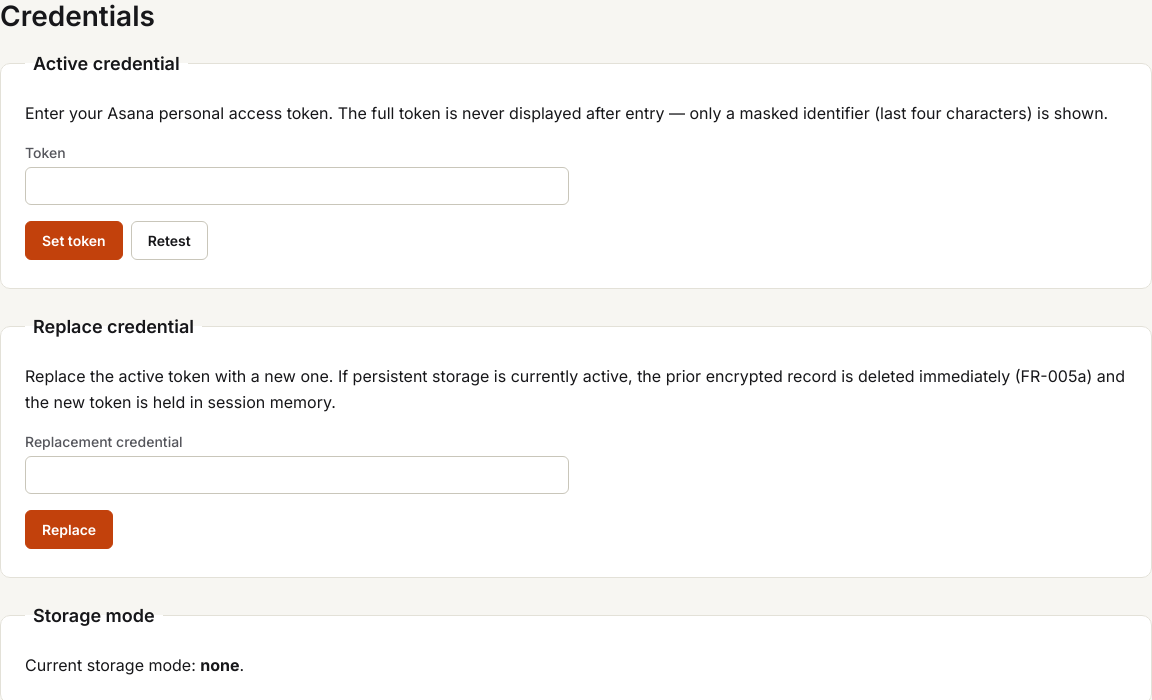
it: T037 Settings credentials panel (US1 acceptance scenario 6) › Retest action (FR-004) › displays a 'token valid' outcome when the fixture round-trip succeeds
The width and height of the screenshot is (1152, 700).
In the password field labelled "Token": (297, 186) [25,167,569,205], type "fixture-session-token-aaaaaaaa"
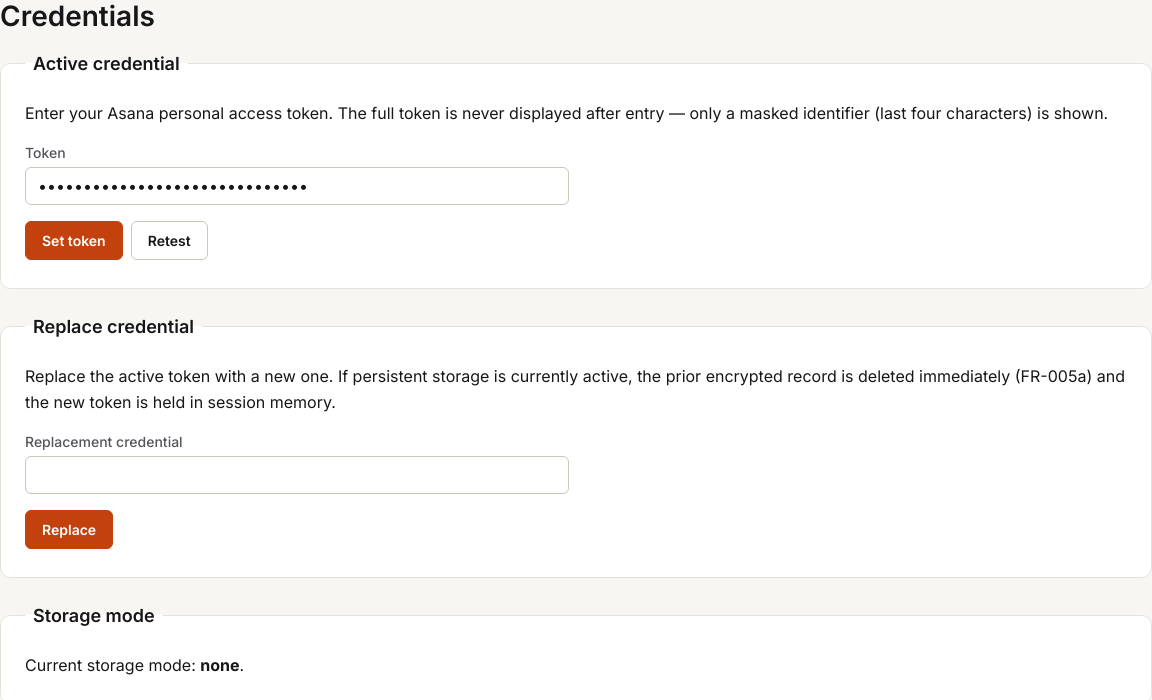
Click the button "Set token": click(74, 241) [25,221,123,260]
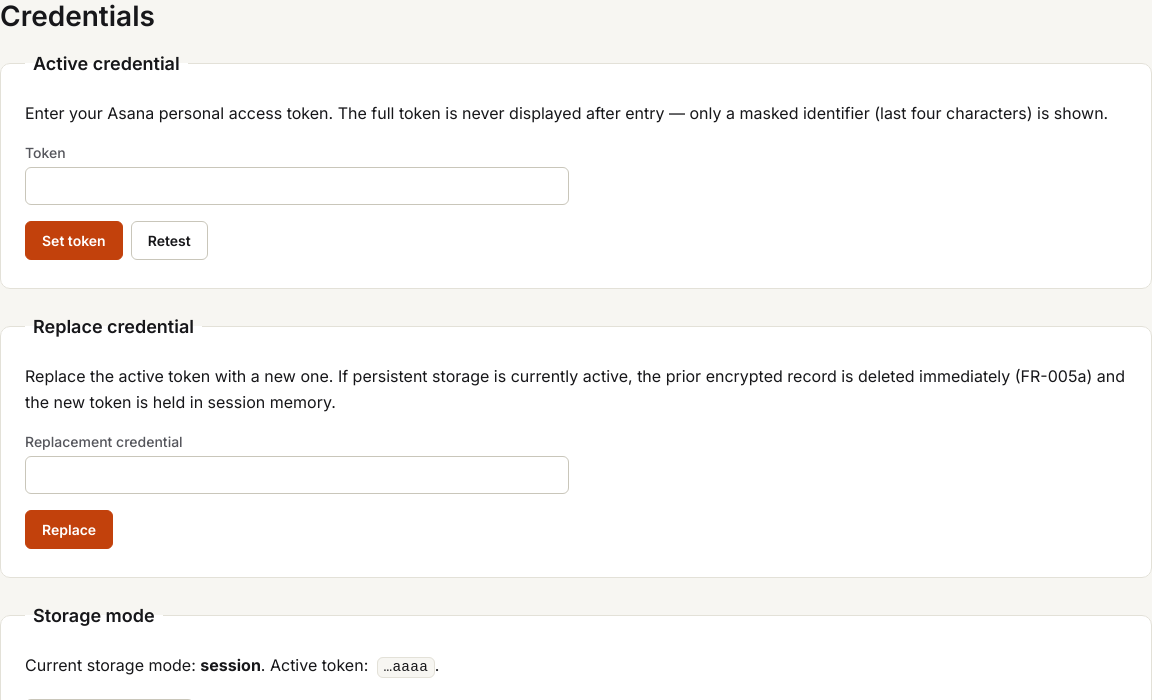
Click the button "Retest": click(169, 241) [131,221,208,260]
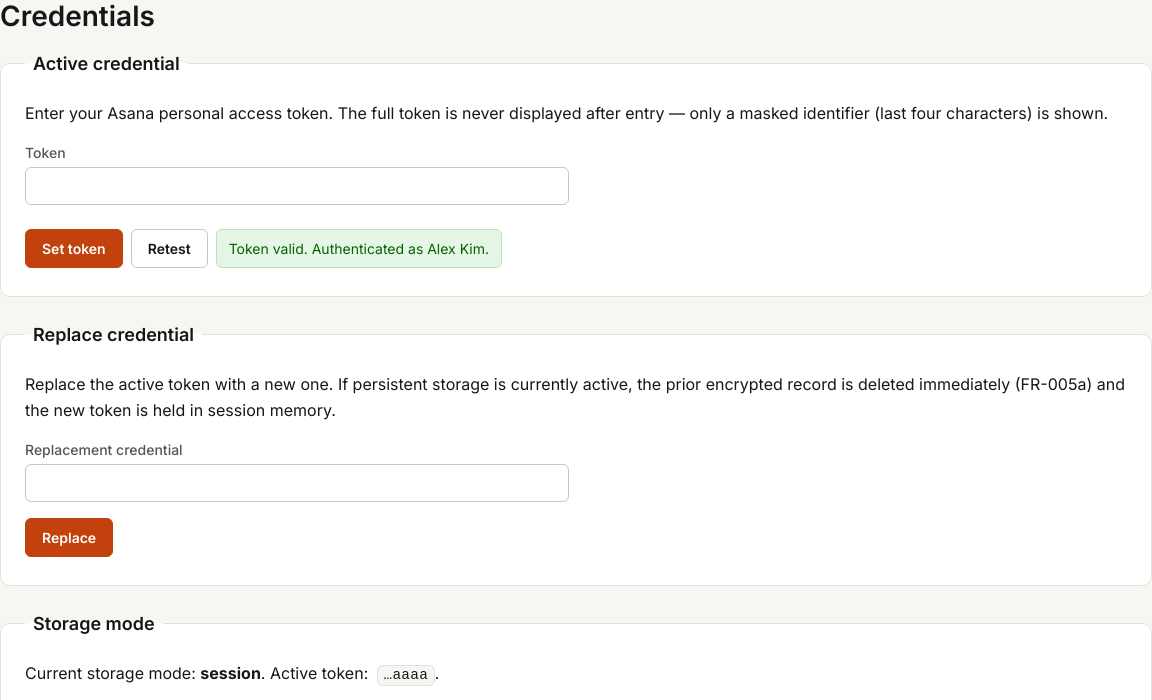
Expected: the text "session" is shown, [200,663,261,683]
Expected: the message with test id "retest-outcome" shows "valid", [229,240,489,257]
